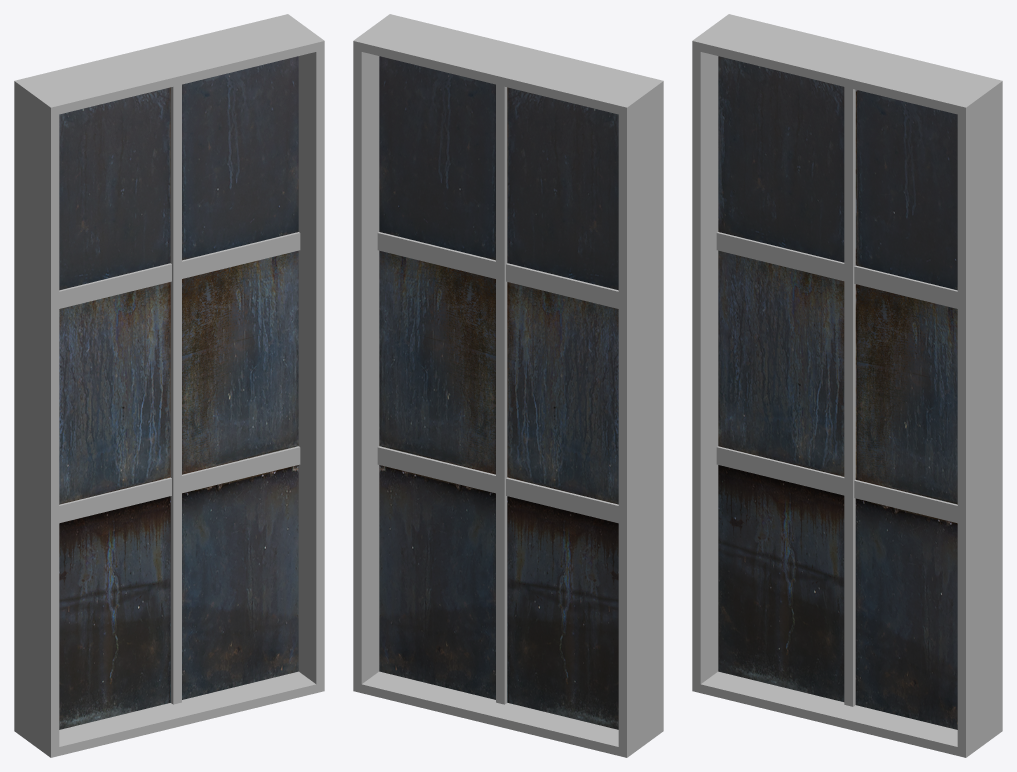
The model's file is Window_industrial_002.fbx.
3 renders of one model, left to right at view 1: azimuth 30°, elevation 25°; view 2: azimuth 150°, elevation 25°; view 3: azimuth 330°, elevation 25°, orthographic.
Visible parts, largest first — view 1: Glass, Rama; view 2: Glass, Rama; view 3: Glass, Rama.
Boxes of the visible parts, <box> form: Glass: <box>59,56,298,729</box>; Rama: <box>14,14,324,757</box>; Glass: <box>379,56,618,729</box>; Rama: <box>353,14,663,757</box>; Glass: <box>718,56,957,729</box>; Rama: <box>692,14,1002,757</box>.
Bounding box in the file's own units: 94.77 × 215 × 22.
